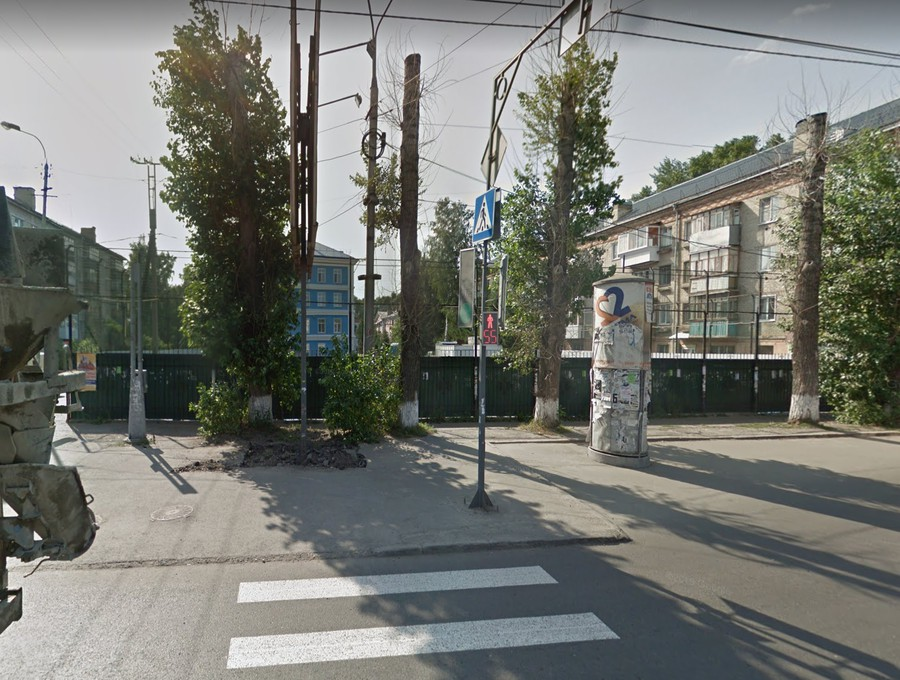Traffic Light-red: (477, 304, 502, 351)
